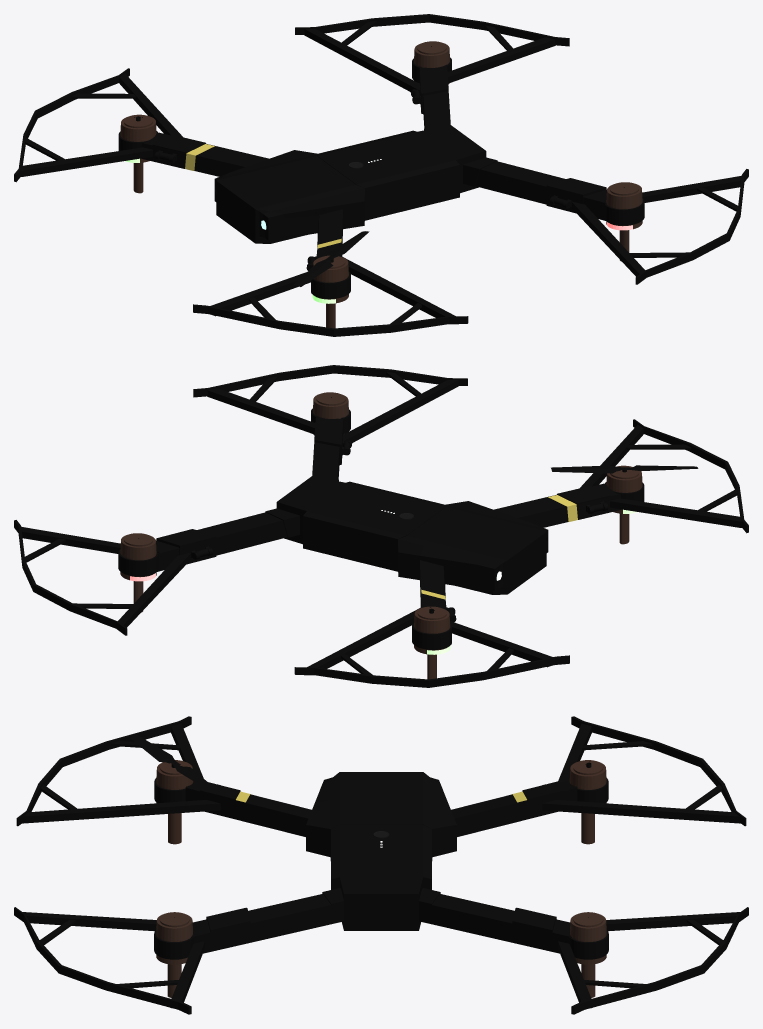
The model's file is Propeller.fbx.
3 views of the same model, one above another, from view 1: azimuth 30°, elevation 25°; view 2: azimuth 150°, elevation 25°; view 3: azimuth 270°, elevation 25° (orthographic). The views are drawn at different scales.
Parts seen in each view (by area): view 1: Drone, Propeller; view 2: Drone, Propeller; view 3: Drone, Propeller.
Boxes of the visible parts, x1,y1,x2,y2 form: Drone: (14,14,748,336); Propeller: (293,231,369,286); Drone: (14,365,748,687); Propeller: (551,465,698,473); Drone: (14,716,748,1014); Propeller: (129,734,218,792).
Bounding box in the file's own units: 1093 × 138 × 1165.
